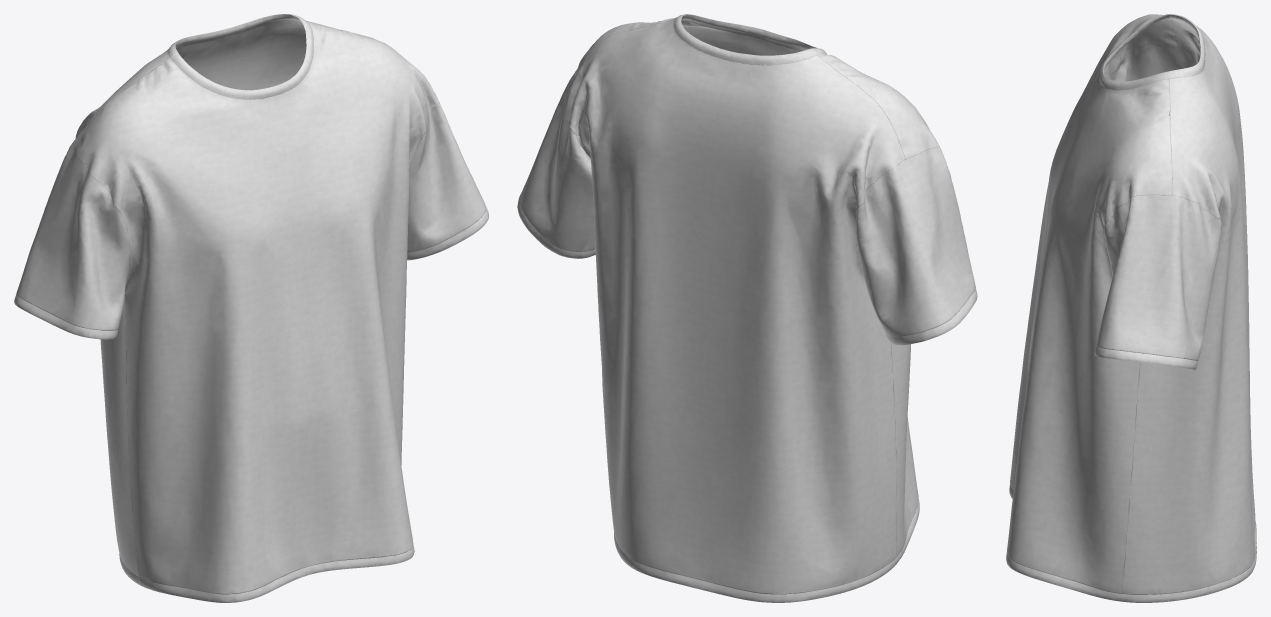
Rendered from tshirt.glb.
The picture shows the model from 3 angles, left to right: view 1: azimuth 30°, elevation 25°; view 2: azimuth 150°, elevation 25°; view 3: azimuth 270°, elevation 25°; orthographic projection. The views are drawn at different scales.
Visible parts, largest first — view 1: Object_2; view 2: Object_2; view 3: Object_2.
Part boxes in pixels (box(x1,y1,x2,y2)): Object_2: box(14, 14, 488, 602); Object_2: box(517, 14, 977, 602); Object_2: box(1006, 14, 1256, 602).
Bounding box in the file's own units: 0.637 × 0.7108 × 0.3212.
1 material, 1 textured.
